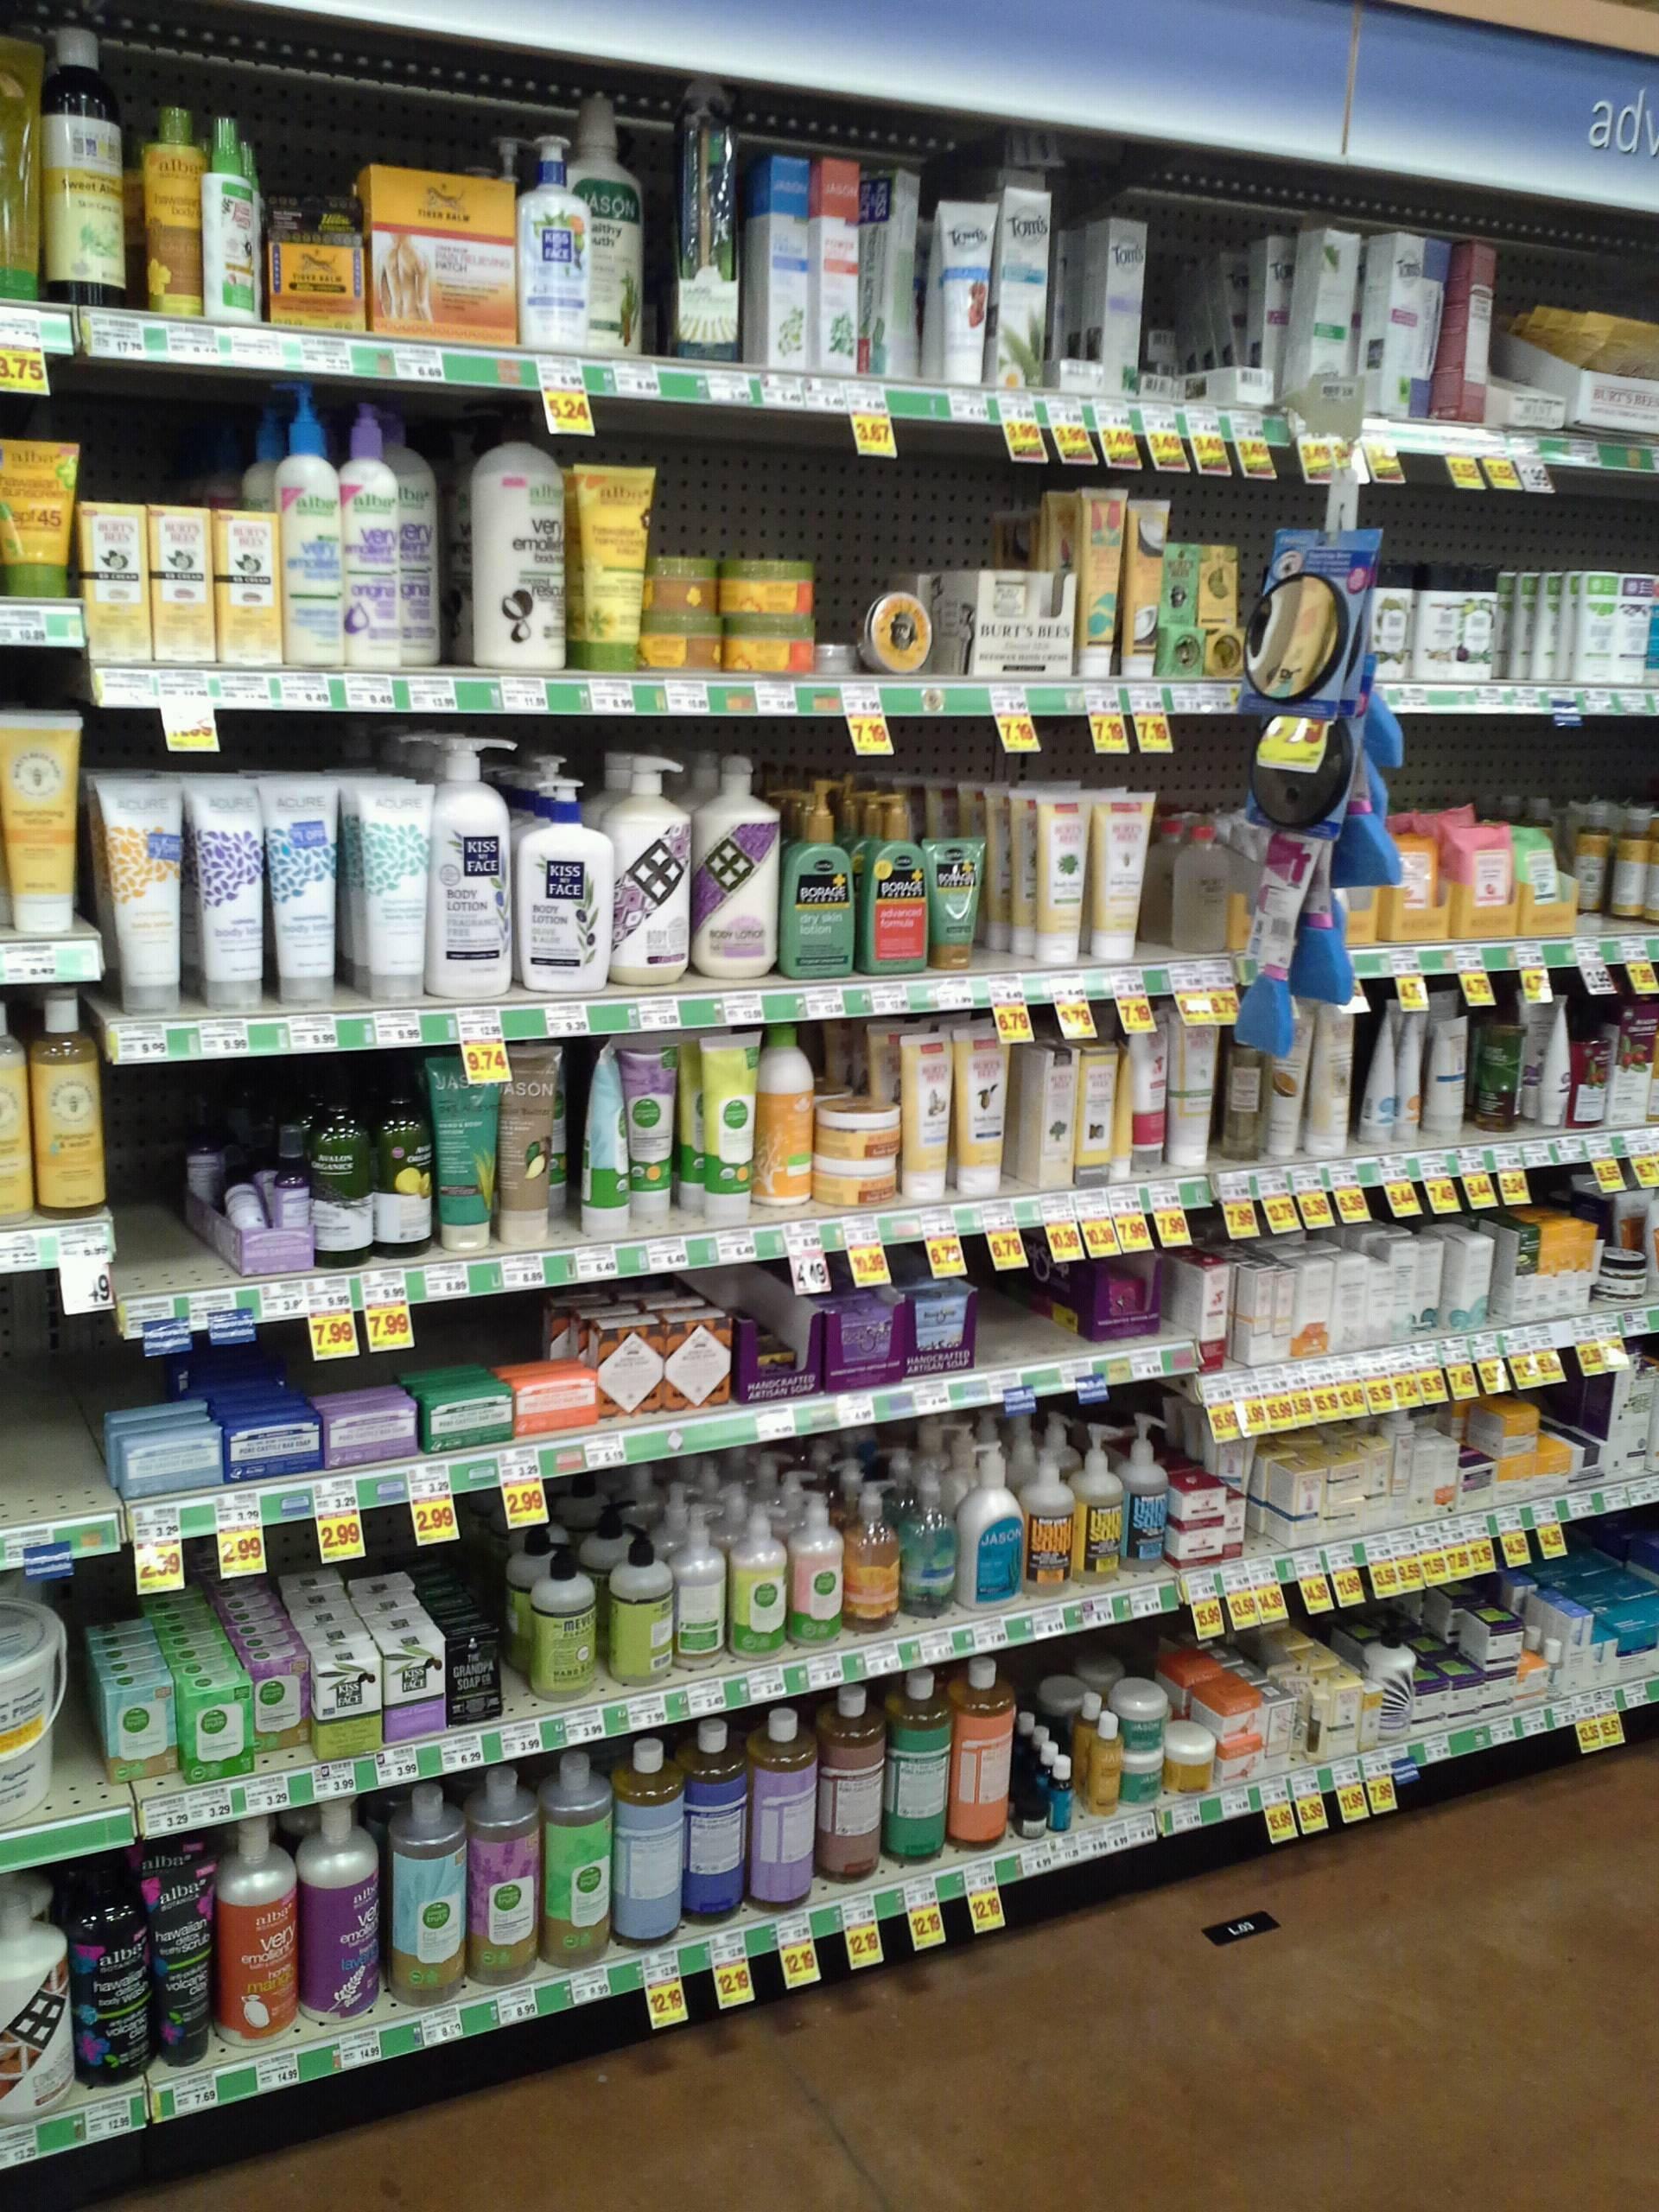empty: (103, 1099, 199, 1282), (0, 1329, 96, 1512)
